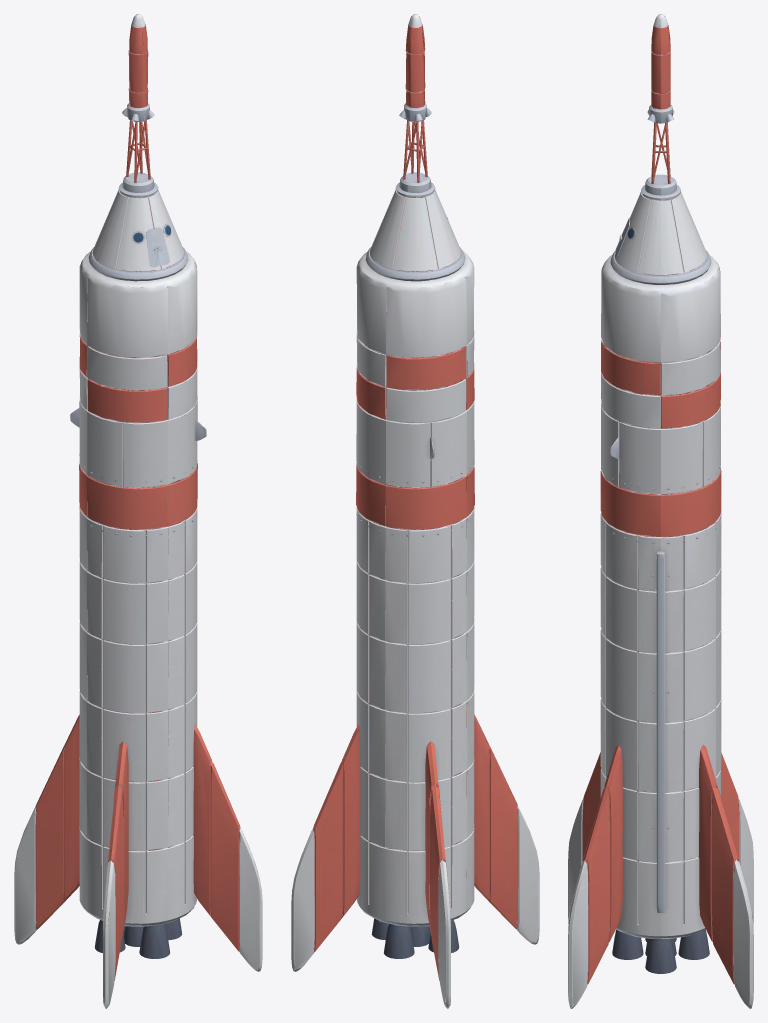
The model's file is cohete_espacial.glb.
The picture shows the model from 3 angles, left to right: view 1: azimuth 30°, elevation 25°; view 2: azimuth 150°, elevation 25°; view 3: azimuth 270°, elevation 25°; orthographic projection.
Parts seen in each view (by area): view 1: rocket_body; view 2: rocket_body; view 3: rocket_body.
Boxes of the visible parts, <box> form: rocket_body: <box>14,14,262,1008</box>; rocket_body: <box>291,14,539,1008</box>; rocket_body: <box>568,14,753,1008</box>.
Bounding box in the file's own units: 8.69 × 49.4 × 8.69.
2 materials, 1 textured.
